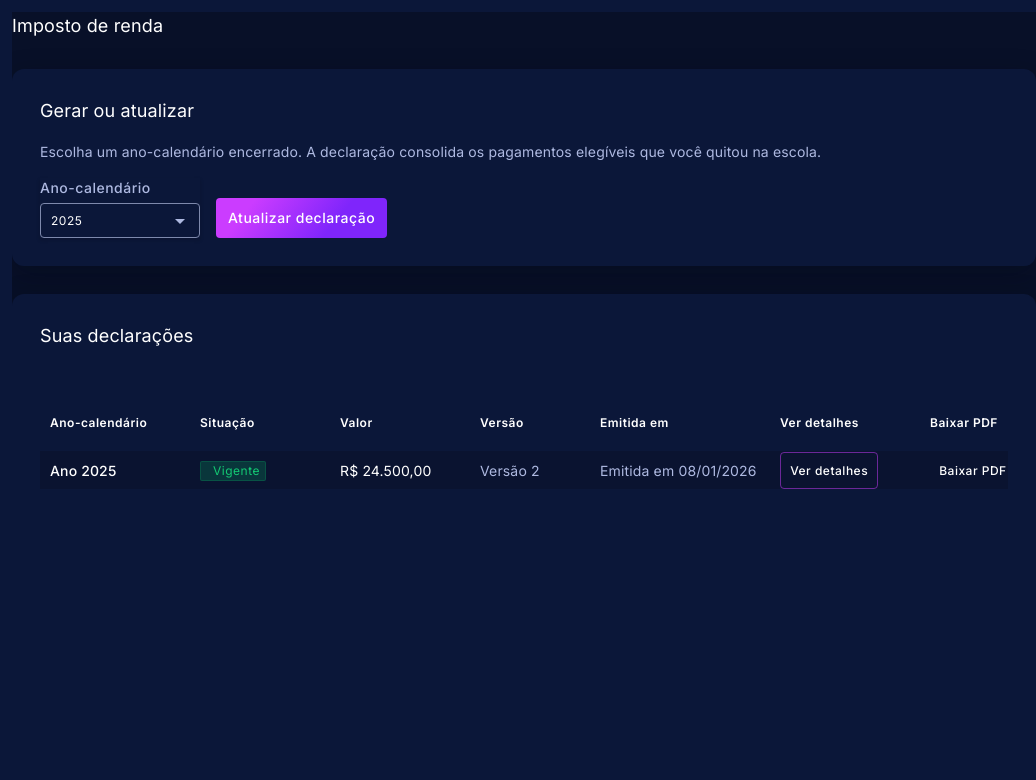
it: MyTaxDeclarations › shows ineligible state when there are no eligible payments
This screenshot has width=1036, height=780.
Expected: the heading "Imposto de renda" is shown, [12,12,163,41]
Click the dropdown named "ano-calendário" at (67, 221), box [51,213,82,228]
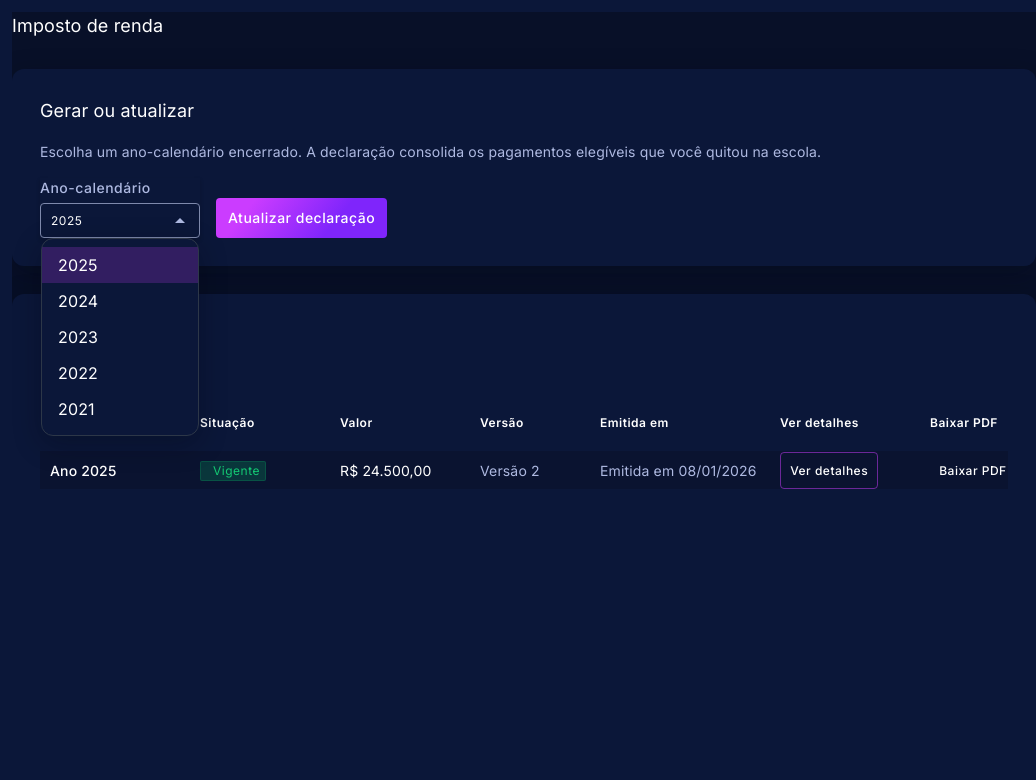
Click the option "2024" at (78, 301), box [58,291,98,311]
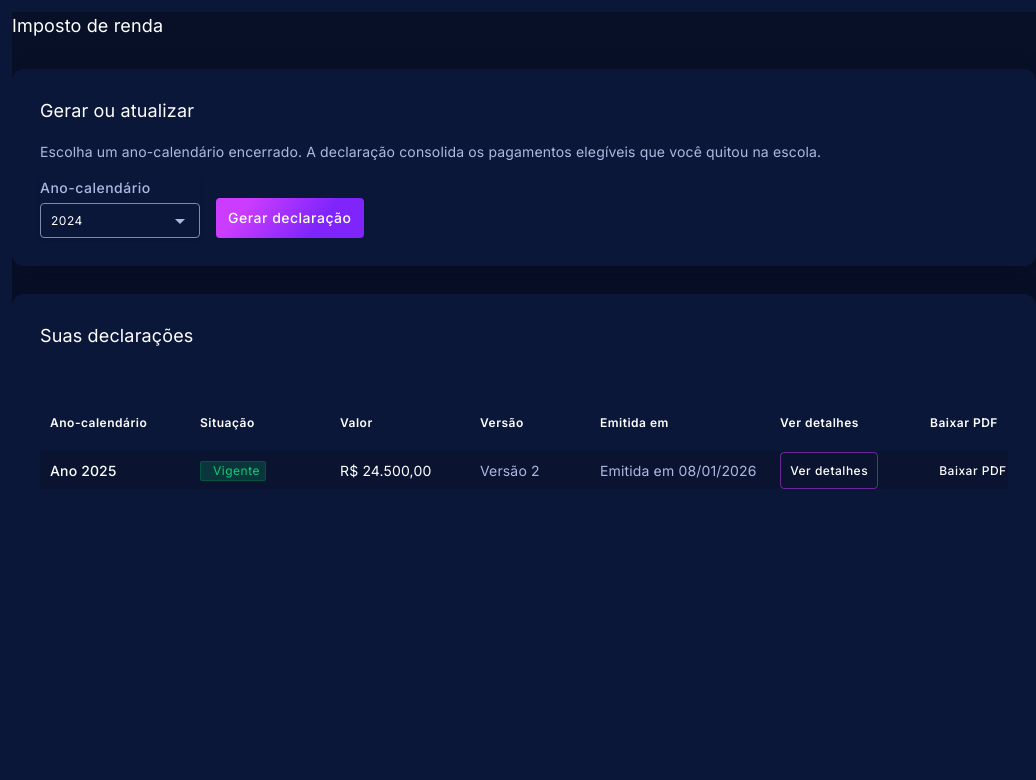
Click the button "Gerar declaração" at (290, 218), box [216,198,364,238]
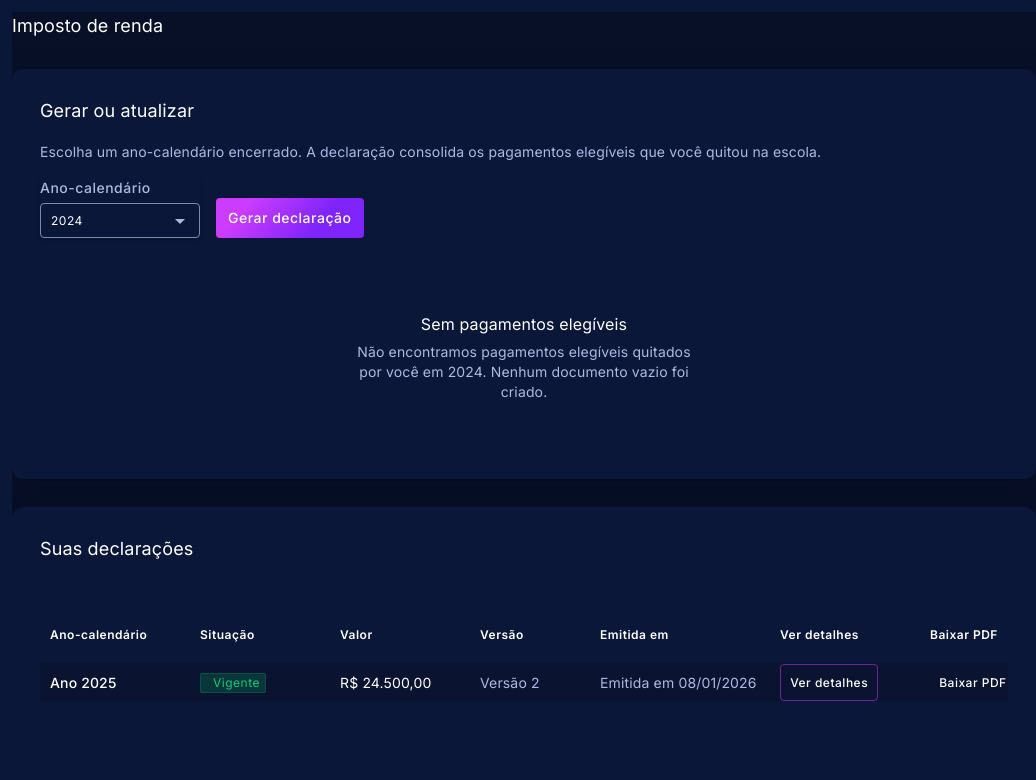
Result: the heading "Sem pagamentos elegíveis" is shown at [421,310,627,338]
